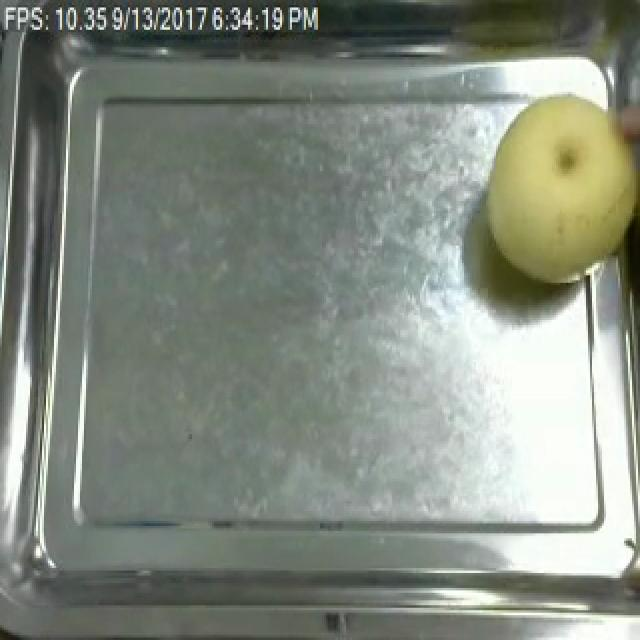Fruit: (474, 79, 640, 293)
